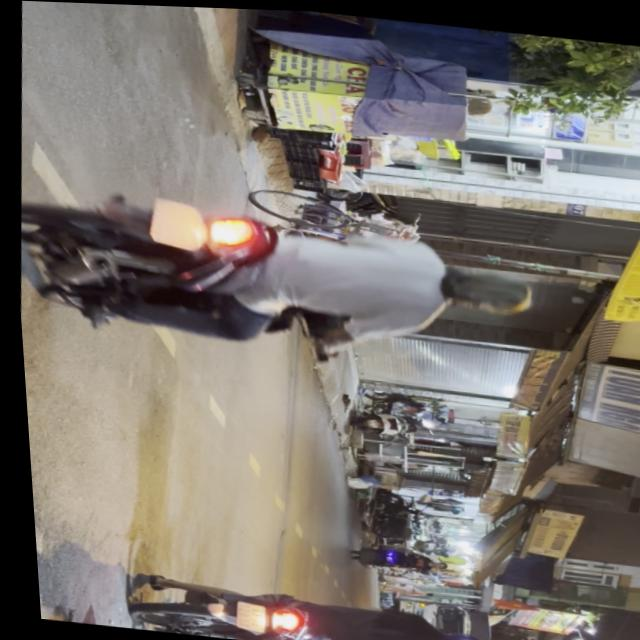helmet: (425, 623, 478, 640)
licenseplate: (9, 175, 542, 375), (120, 564, 485, 640)
motorcyclist: (438, 257, 534, 314)
nohelmet: (147, 195, 203, 248), (228, 598, 261, 629)
